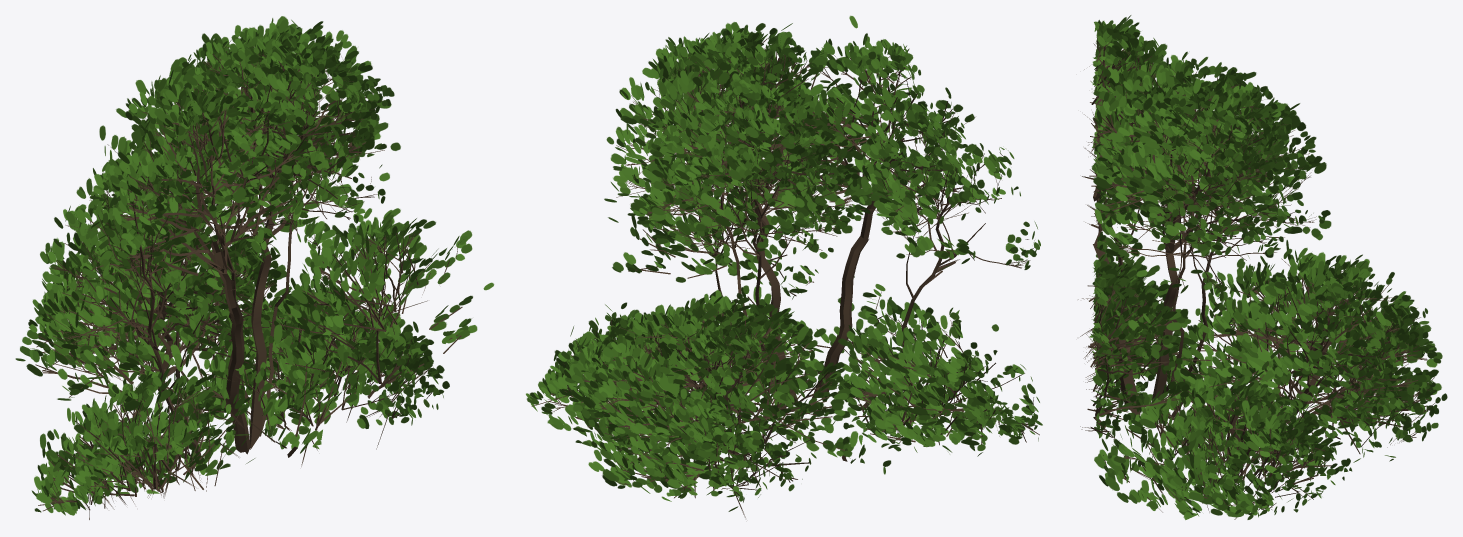
The picture shows the model from 3 angles, left to right: view 1: azimuth 30°, elevation 25°; view 2: azimuth 150°, elevation 25°; view 3: azimuth 270°, elevation 25°; orthographic projection. The views are drawn at different scales.
Visible parts, largest first — view 1: oak 01.001_trunk_Mat.001_0.477; view 2: oak 01.001_trunk_Mat.001_0.477; view 3: oak 01.001_trunk_Mat.001_0.477.
Part boxes in pixels (box(x1,y1,x2,y2)): oak 01.001_trunk_Mat.001_0.477: box(15, 16, 494, 519); oak 01.001_trunk_Mat.001_0.477: box(526, 15, 1042, 517); oak 01.001_trunk_Mat.001_0.477: box(1078, 15, 1447, 519).
Size of the model in its own units: 5.82 by 5.05 by 4.29.
2 materials, 1 textured.
